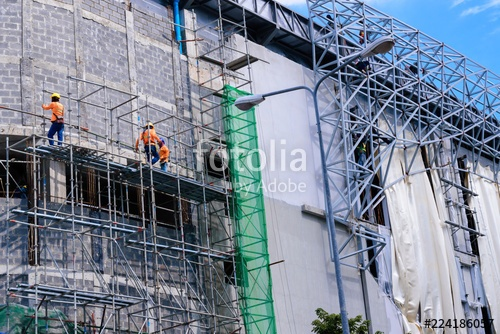blue: (157, 137, 165, 147)
yellow: (50, 92, 60, 103), (144, 122, 154, 130)
